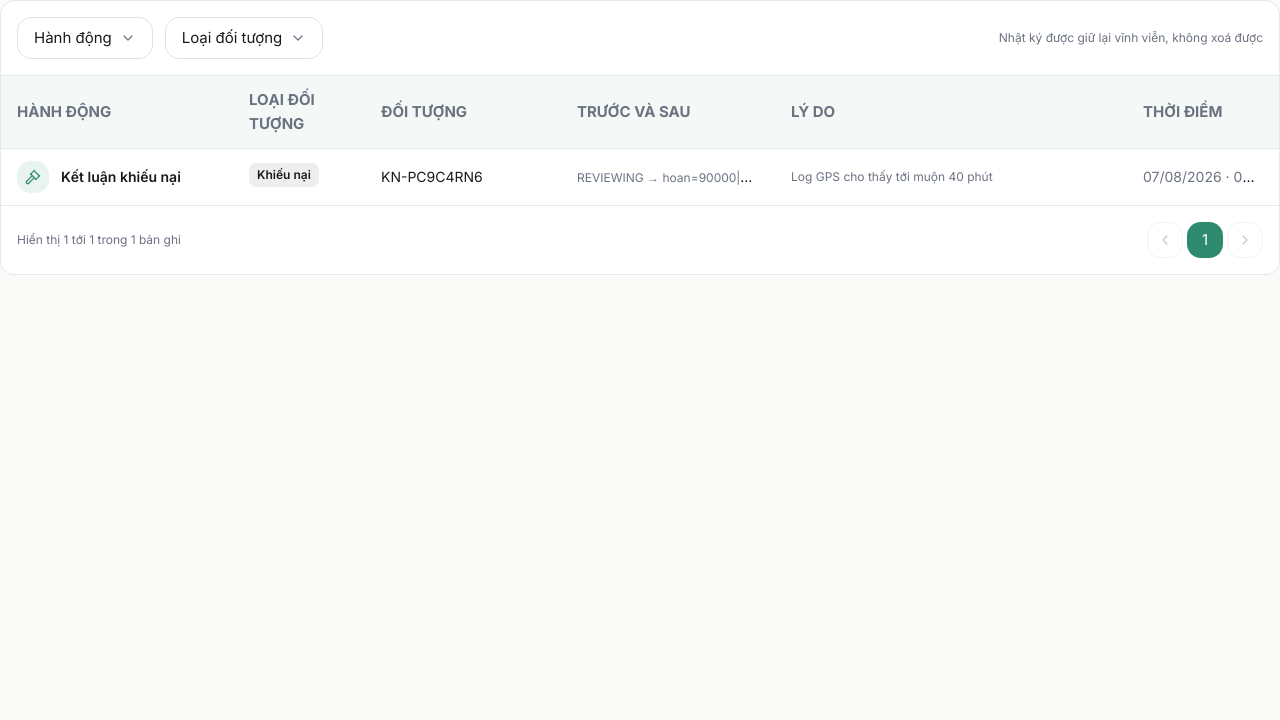
Test case: Nhật ký thao tác › mọi mã backend ghi thật đều có nhãn tiếng Việt, không hiện mã thô
Expected: the text "Kết luận khiếu nại" is shown, 61,167 -> 181,187
Click the button "Hành động". click: click(85, 38)
box: 17,17 -> 153,59
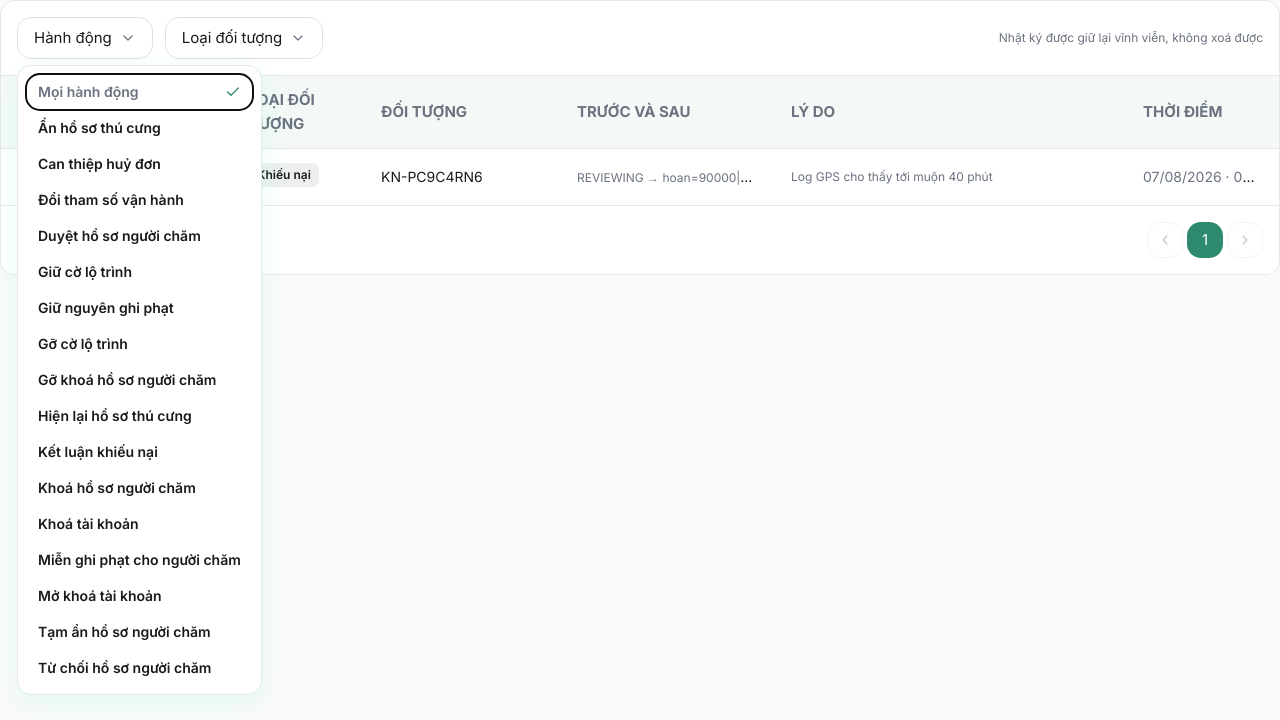
Expected: the button "Gỡ khoá hồ sơ người chăm" is shown, 26,362 -> 253,398
Expected: the button "Ẩn hồ sơ thú cưng" is shown, 26,110 -> 253,146
